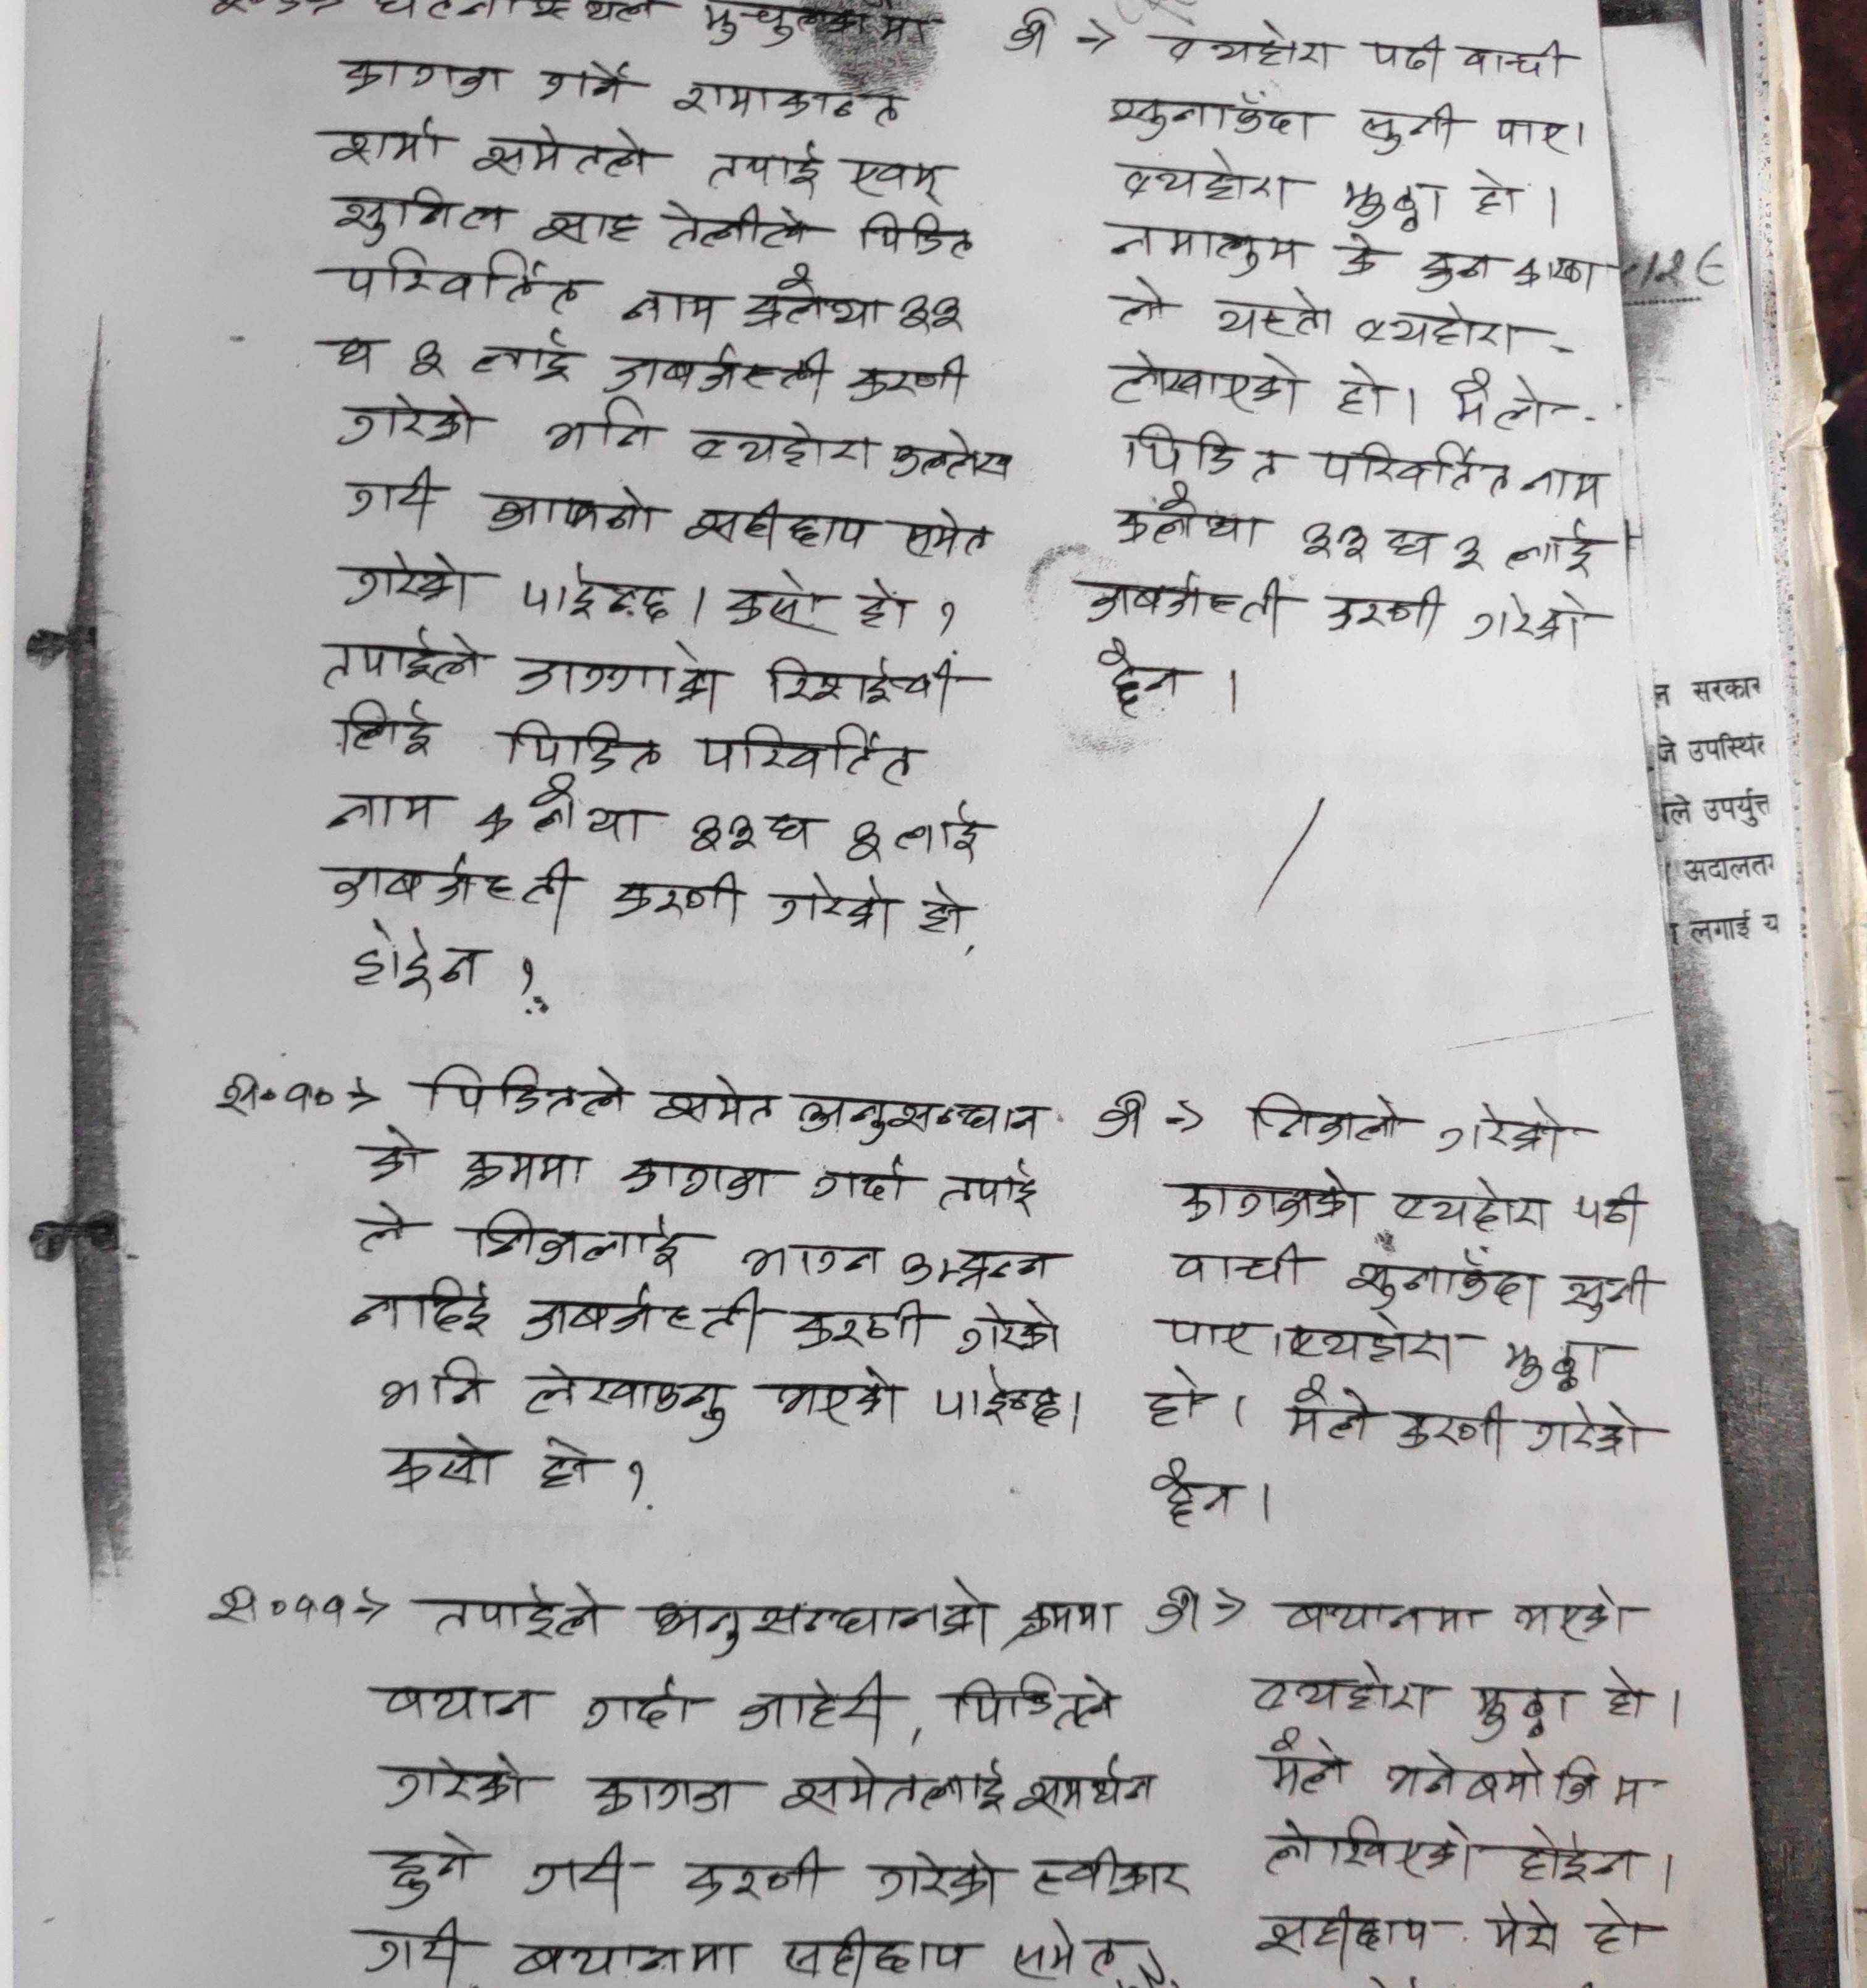text: (646, 1576, 998, 1656), (1151, 1304, 1462, 1372), (518, 1358, 742, 1442), (321, 246, 590, 316), (691, 712, 919, 788), (788, 1084, 1044, 1149), (1256, 1811, 1481, 1884), (514, 1281, 769, 1346), (779, 1748, 1007, 1820), (318, 847, 577, 909), (1074, 563, 1291, 635), (597, 340, 835, 405), (670, 68, 902, 133), (461, 1207, 688, 1272), (1465, 1744, 1649, 1823), (1105, 344, 1305, 416), (504, 647, 730, 711), (1097, 86, 1325, 147), (1318, 432, 1511, 504), (1348, 1244, 1537, 1316), (1248, 1655, 1446, 1723), (1174, 1167, 1370, 1235), (416, 1060, 632, 1121), (779, 1920, 972, 1988), (1112, 211, 1305, 279), (677, 495, 879, 560), (502, 1935, 744, 1988), (946, 1663, 1132, 1732), (1248, 1902, 1444, 1965), (1109, 147, 1295, 214), (758, 649, 963, 709), (676, 418, 879, 477), (423, 1581, 609, 1646), (1149, 16, 1339, 79), (472, 119, 658, 182), (735, 1670, 898, 1742), (519, 554, 677, 628), (326, 177, 504, 242), (742, 258, 883, 339), (1107, 483, 1267, 553), (1248, 1084, 1411, 1153), (1012, 1749, 1160, 1825), (316, 625, 490, 686), (330, 49, 512, 107), (767, 863, 900, 942), (1121, 419, 1283, 484), (333, 546, 479, 618), (351, 919, 477, 1002), (333, 386, 490, 453), (340, 1274, 500, 1339), (1511, 1814, 1639, 1895), (676, 1842, 826, 1911), (1465, 583, 1607, 654), (476, 486, 663, 540), (653, 193, 814, 256), (504, 711, 665, 774), (870, 1842, 1007, 1916), (1032, 1841, 1191, 1904), (1393, 1177, 1560, 1237), (1437, 1097, 1581, 1165), (1281, 1595, 1488, 1642), (925, 1365, 1058, 1435), (518, 772, 647, 844), (891, 1241, 1060, 1295), (1351, 302, 1520, 356), (791, 1288, 935, 1351), (372, 1832, 484, 1913), (358, 1907, 470, 1988), (767, 1365, 902, 1432), (619, 1153, 779, 1209), (1090, 632, 1191, 719), (381, 1753, 528, 1813), (1395, 1384, 1506, 1463), (1009, 1916, 1130, 1988), (1511, 1583, 1644, 1648), (1499, 1321, 1621, 1391), (1465, 1670, 1581, 1744), (1449, 358, 1555, 439), (605, 870, 751, 928), (737, 1230, 886, 1286), (374, 1676, 542, 1725), (723, 572, 841, 642), (1523, 1395, 1646, 1462), (646, 1070, 783, 1130), (384, 1432, 504, 1500), (1205, 282, 1337, 344), (205, 1576, 349, 1632), (1172, 1237, 1314, 1293), (579, 1672, 698, 1739), (1255, 1727, 1360, 1802), (888, 426, 1016, 488), (330, 695, 439, 767), (586, 1769, 739, 1820), (542, 395, 653, 465), (523, 1835, 630, 1907), (377, 1349, 488, 1418), (469, 323, 584, 388), (1323, 584, 1453, 642), (955, 1297, 1062, 1367), (700, 139, 828, 197), (1144, 1460, 1244, 1534), (323, 112, 454, 167), (456, 1146, 591, 1198), (342, 461, 446, 528), (1335, 174, 1448, 235), (1500, 512, 1606, 577), (930, 1158, 1042, 1218), (895, 798, 990, 869), (207, 1067, 337, 1118), (1284, 1372, 1374, 1446), (1555, 1256, 1653, 1323), (842, 354, 970, 405), (1358, 98, 1467, 158), (862, 209, 984, 261), (618, 284, 730, 339), (807, 1153, 914, 1209), (1411, 228, 1499, 297), (848, 153, 953, 209), (1456, 35, 1570, 86), (902, 504, 995, 565), (326, 788, 446, 835), (1481, 1897, 1570, 1960), (537, 53, 637, 109), (1379, 1744, 1462, 1807), (528, 207, 644, 251), (1014, 1595, 1121, 1642), (1584, 1895, 1658, 1963), (1362, 23, 1448, 81), (1139, 1372, 1218, 1434), (1523, 458, 1614, 509), (1576, 1181, 1649, 1241), (683, 809, 763, 863), (530, 1435, 607, 1491), (1328, 351, 1393, 418), (353, 1126, 426, 1183), (895, 286, 970, 340), (1491, 112, 1570, 163), (356, 1200, 423, 1258), (1298, 518, 1374, 567), (1114, 274, 1177, 332), (851, 576, 909, 637), (1599, 1660, 1649, 1727), (918, 879, 969, 944), (1469, 165, 1527, 219), (1335, 226, 1384, 288), (763, 805, 819, 856), (1388, 521, 1442, 572), (405, 335, 456, 386), (328, 332, 388, 370), (841, 816, 886, 862), (1448, 530, 1490, 577)
